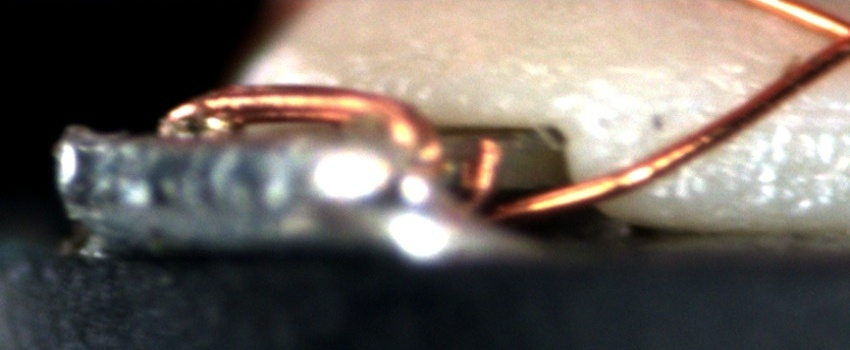DL: (748, 101, 849, 151)
TE: (152, 81, 508, 225)
